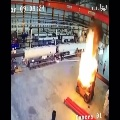fire: (77, 28, 98, 88)
